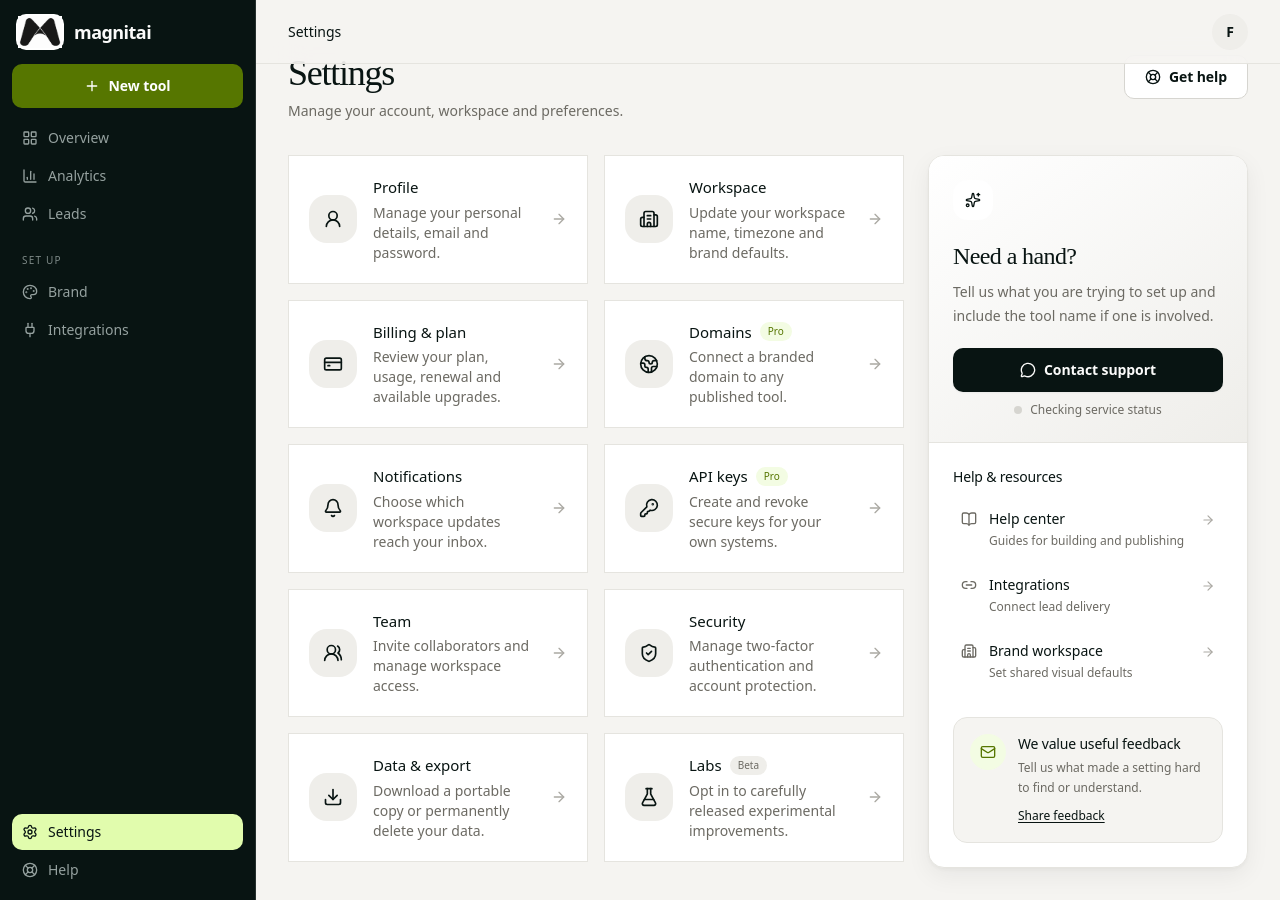
Test: settings route › deleting the account › stays disabled until both the password and the confirm word are given
(page scrolled)
Click the link "Data & export".
click(438, 797)  # box [288,733,588,862]
(page scrolled)
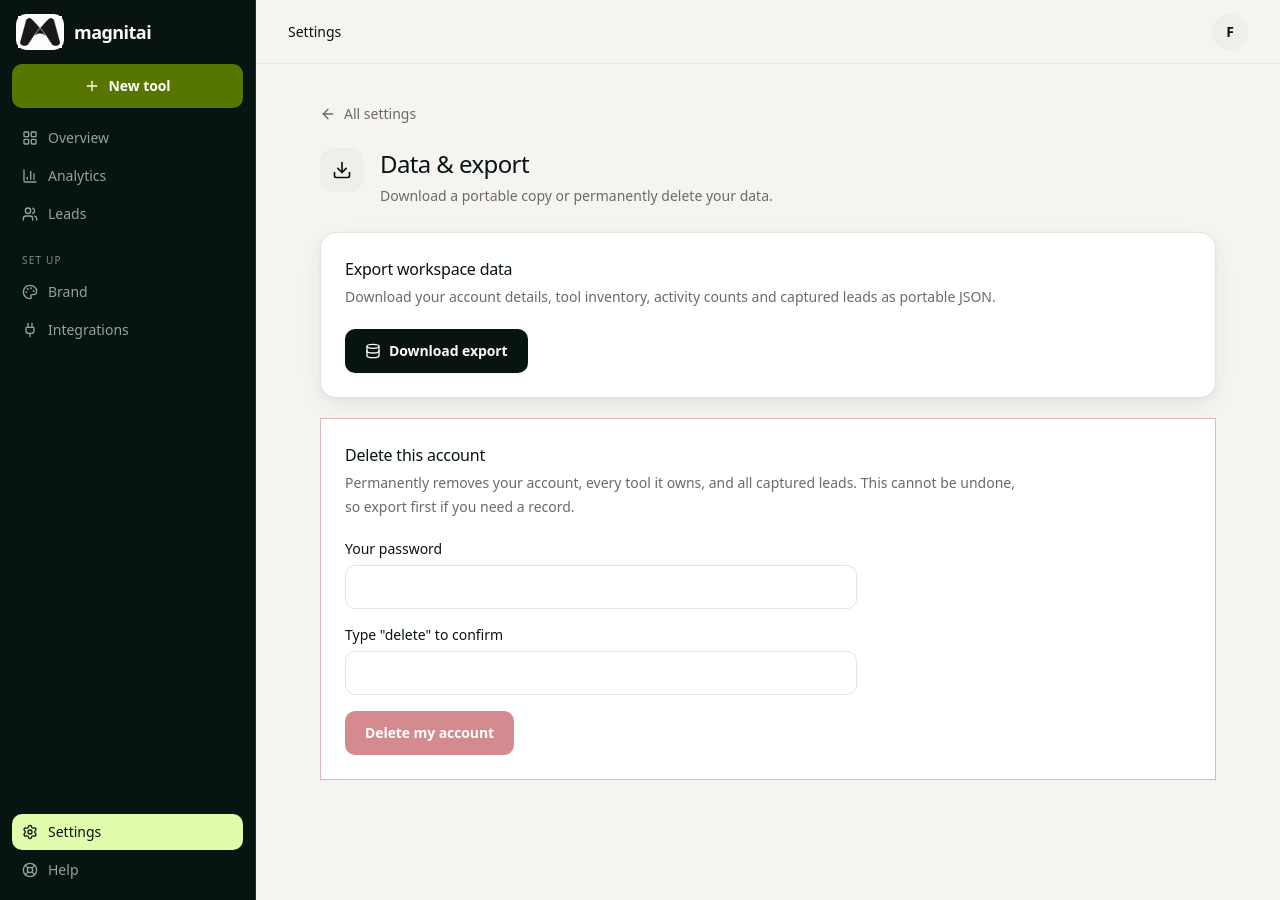
Expected: the button "Delete my account" is disabled, [345,711,514,755]
Type "hunter2" into the password field labelled "Your password".
click(601, 587); type("hunter2")  # box [345,565,857,609]
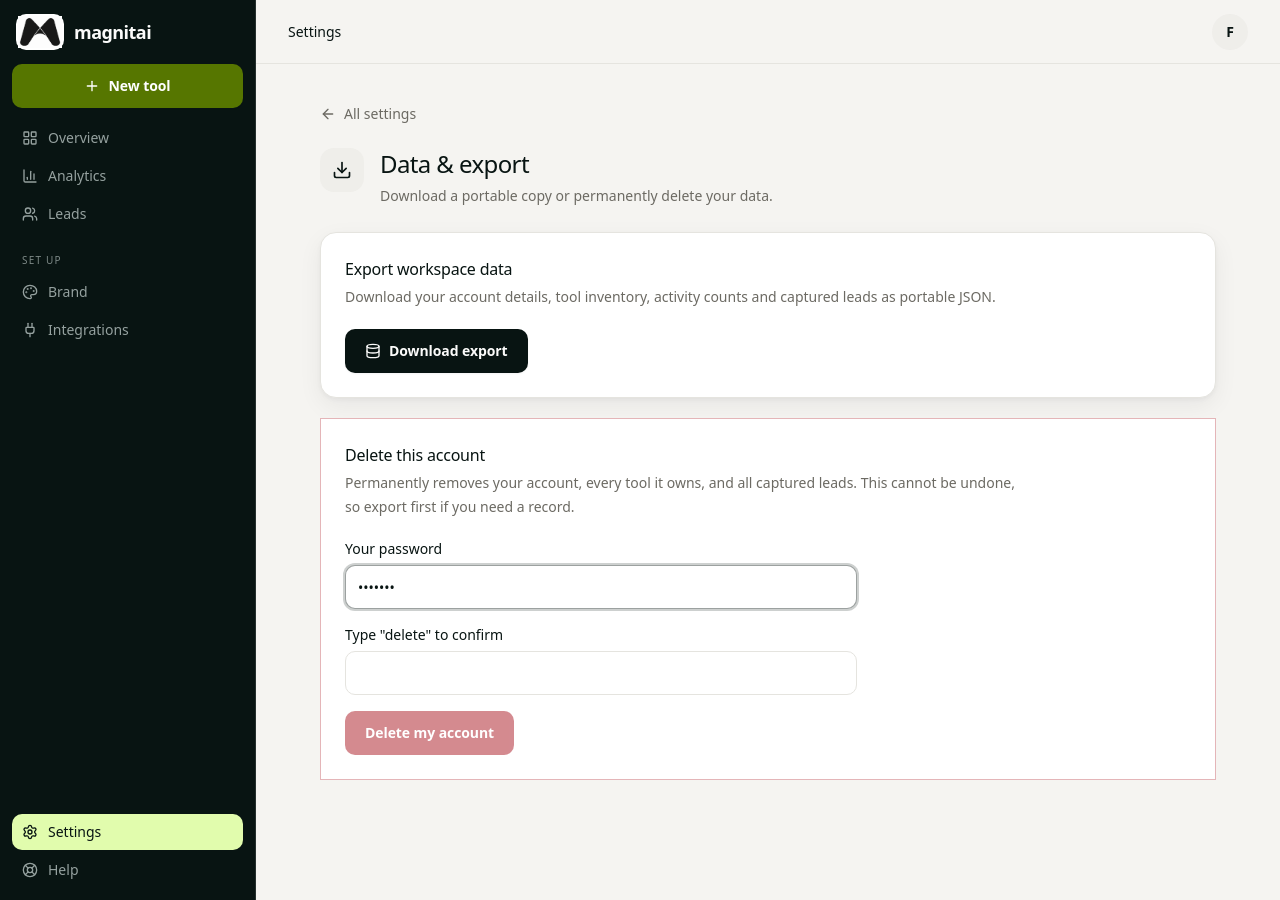
Expected: the button "Delete my account" is disabled, [345,711,514,755]
Type "delete" into the field labelled "Type \"delete\" to confirm".
click(601, 673); type("delete")  # box [345,651,857,695]
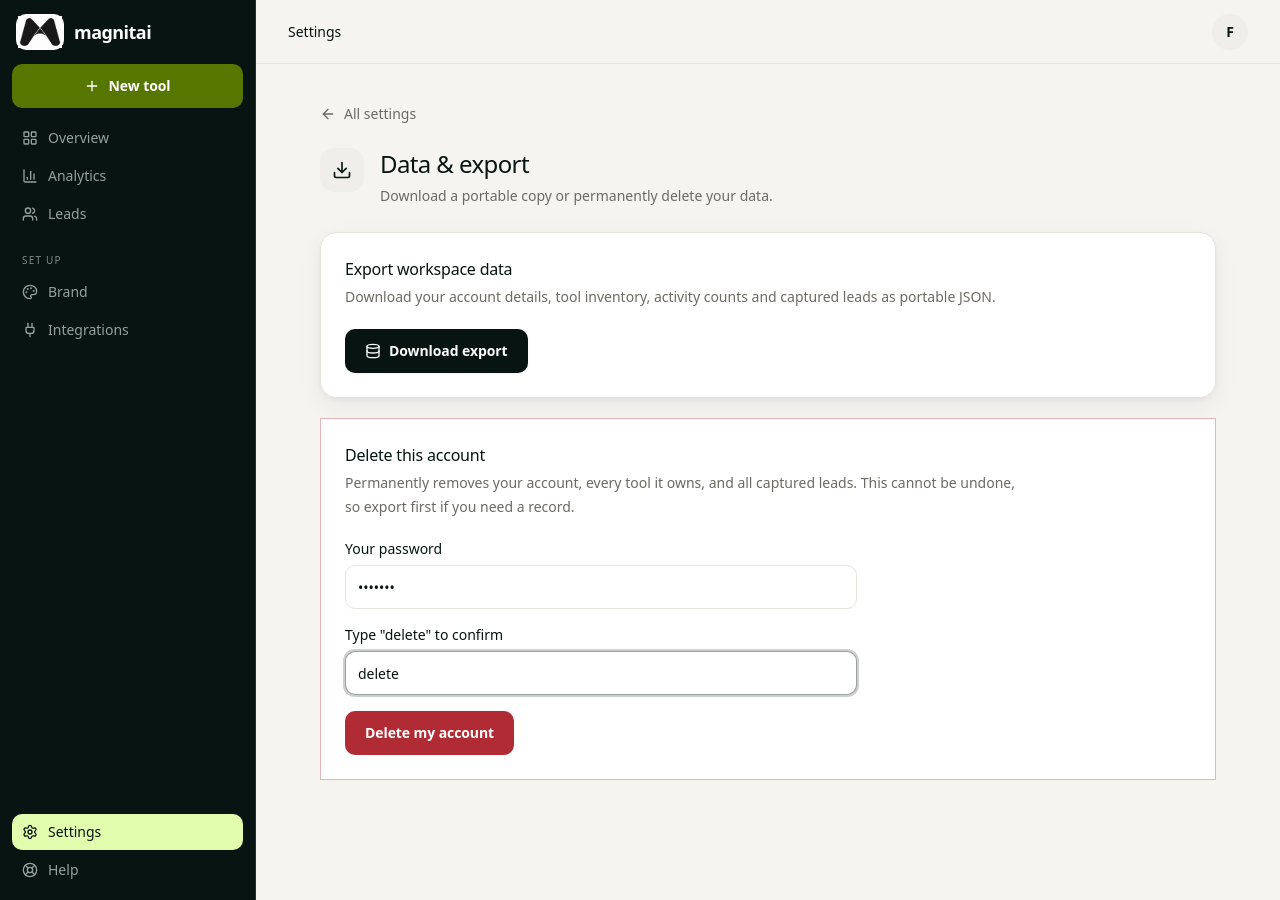
Expected: the button "Delete my account" is enabled, [345,711,514,755]
